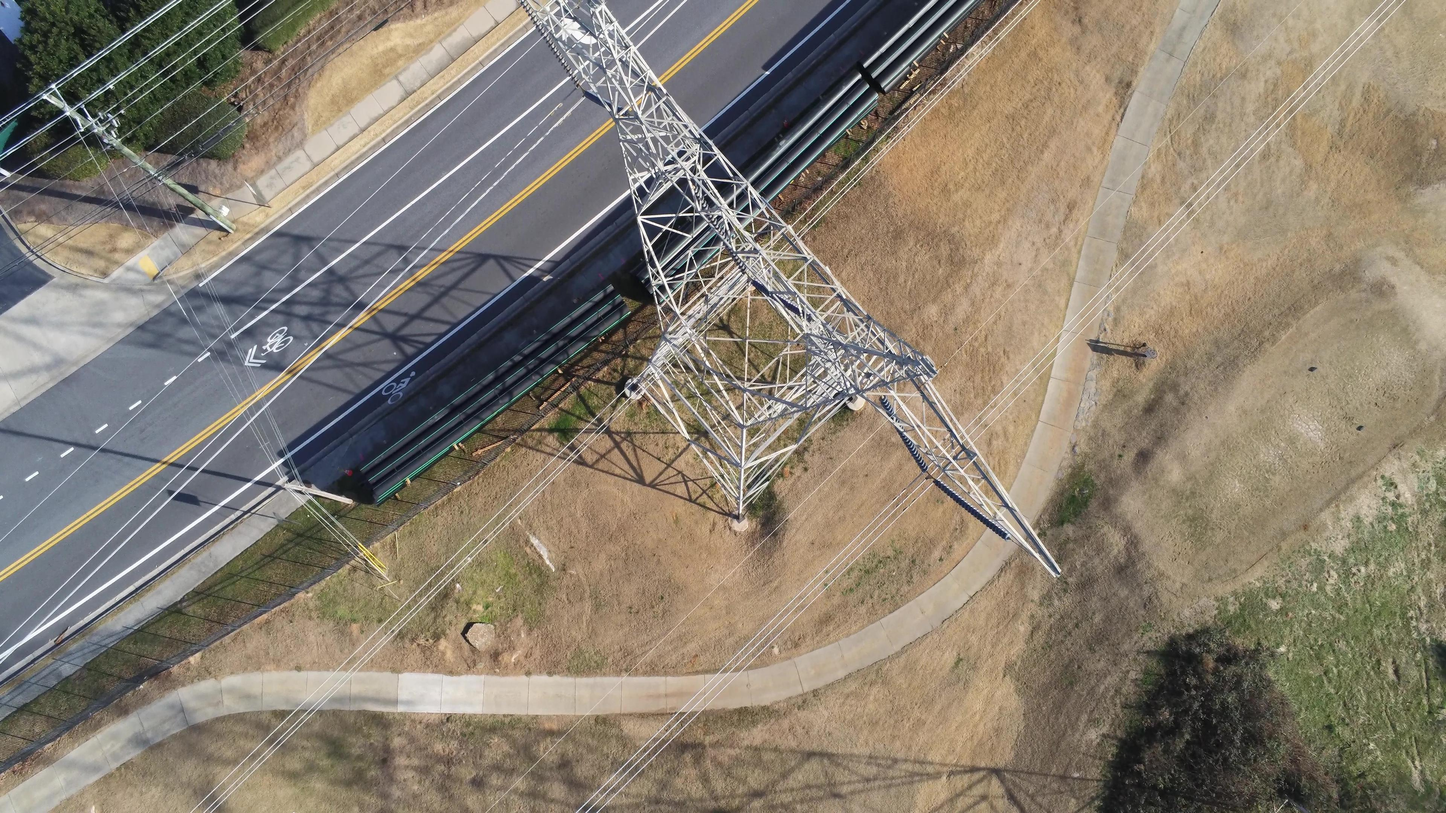power_tower: (519, 0, 1062, 579)
